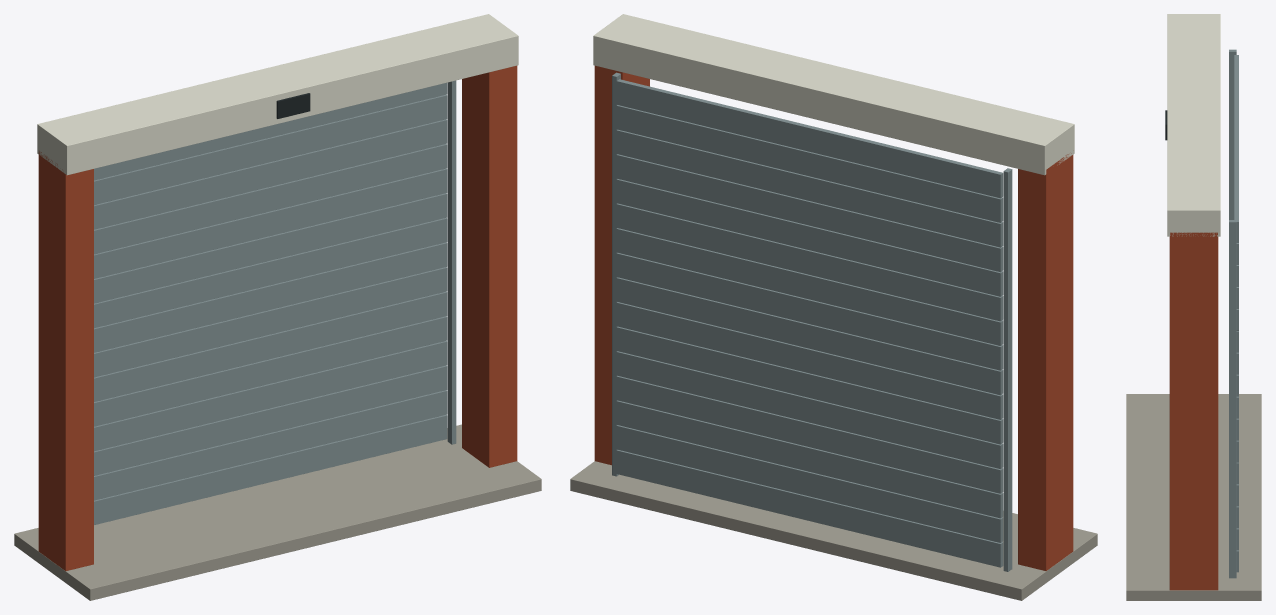
The model's file is fire-station-vehicle-bay.glb.
The picture shows the model from 3 angles, left to right: view 1: azimuth 30°, elevation 25°; view 2: azimuth 150°, elevation 25°; view 3: azimuth 270°, elevation 25°; orthographic projection. The views are drawn at different scales.
Visible parts, largest first — view 1: Bay_Slab, Lintel, Bay_Pier.001, Bay_Pier, Section_13, Section_0, Section_11, Section_2, Section_5, Section_7, Section_9, Section_3 (+8 smaller); view 2: Lintel, Bay_Pier.001, Bay_Slab, Section_15, Section_10, Section_2, Section_5, Section_7, Section_0, Section_12, Section_3, Section_8 (+10 smaller); view 3: Bay_Pier, Bay_Slab, Lintel, Guide_Rail.001, Guide_Rail, Section_15.
Boxes of the visible parts, x1,y1,x2,y2 form: Bay_Slab: [14, 424, 541, 600]; Lintel: [37, 14, 518, 175]; Bay_Pier.001: [38, 150, 93, 570]; Bay_Pier: [462, 65, 517, 467]; Section_13: [94, 94, 447, 204]; Section_0: [94, 414, 447, 524]; Section_11: [94, 144, 447, 254]; Section_2: [94, 365, 447, 475]; Section_5: [94, 291, 447, 401]; Section_7: [94, 242, 447, 352]; Section_9: [94, 193, 447, 303]; Section_3: [94, 341, 447, 451]; Lintel: [593, 14, 1074, 175]; Bay_Pier.001: [1018, 153, 1073, 570]; Bay_Slab: [570, 461, 1097, 600]; Section_15: [616, 79, 1003, 198]; Section_10: [616, 203, 1003, 321]; Section_2: [616, 400, 1003, 518]; Section_5: [616, 326, 1003, 444]; Section_7: [616, 277, 1003, 395]; Section_0: [616, 450, 1003, 567]; Section_12: [616, 154, 1003, 272]; Section_3: [616, 376, 1003, 493]; Section_8: [616, 253, 1003, 370]; Bay_Pier: [1169, 232, 1218, 590]; Bay_Slab: [1126, 394, 1261, 600]; Lintel: [1167, 14, 1220, 236]; Guide_Rail.001: [1229, 220, 1236, 578]; Guide_Rail: [1229, 49, 1236, 219]; Section_15: [1234, 55, 1238, 242].
Size of the model in its own units: 4.8 by 4.45 by 1.4.
